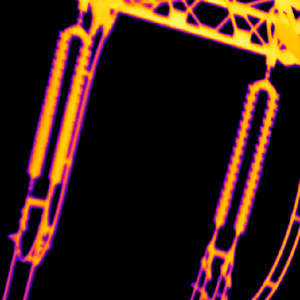insulator: (212, 81, 277, 235), (29, 29, 90, 183)
